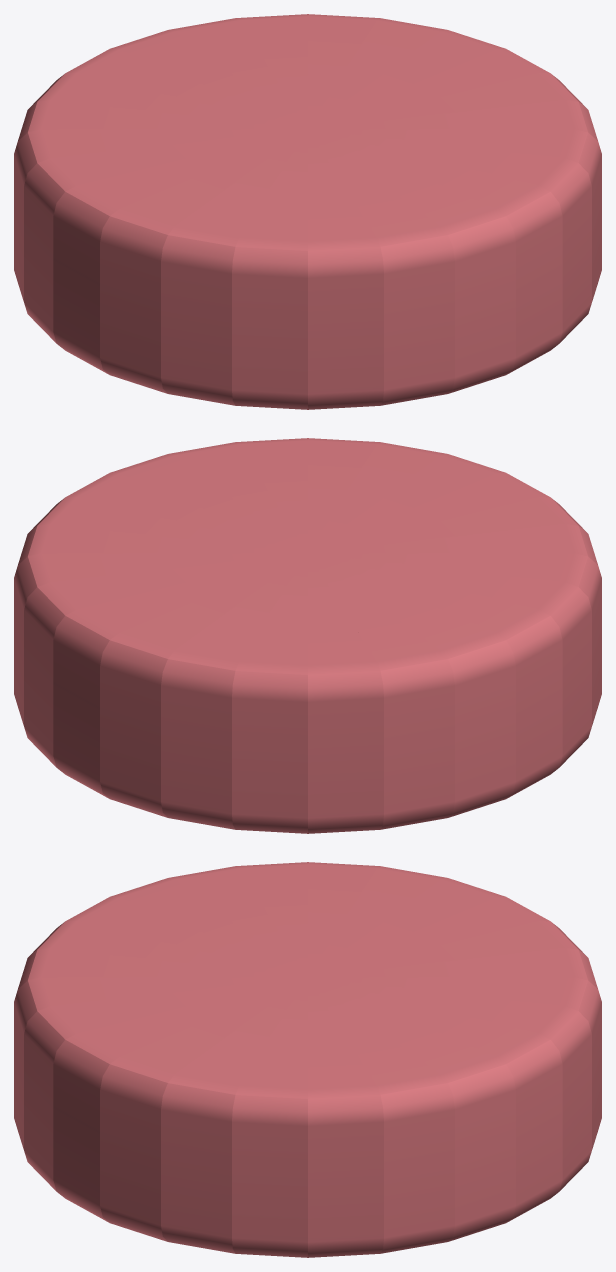
The model's file is TekParcaPandispanya24P_Y.fbx.
3 renders of one model, top to bottom at view 1: azimuth 30°, elevation 25°; view 2: azimuth 150°, elevation 25°; view 3: azimuth 270°, elevation 25°, orthographic.
Parts seen in each view (by area): view 1: Pandispanya10; view 2: Pandispanya10; view 3: Pandispanya10.
Boxes of the visible parts, <box> form: Pandispanya10: <box>14,14,601,409</box>; Pandispanya10: <box>14,438,601,833</box>; Pandispanya10: <box>14,862,601,1257</box>.
Bounding box in the file's own units: 2 × 0.6216 × 2.
